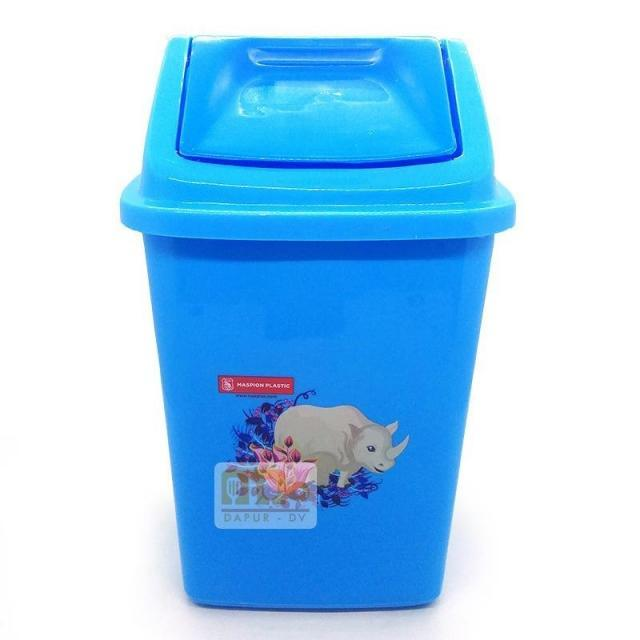Dumpster: (118, 31, 516, 610)
